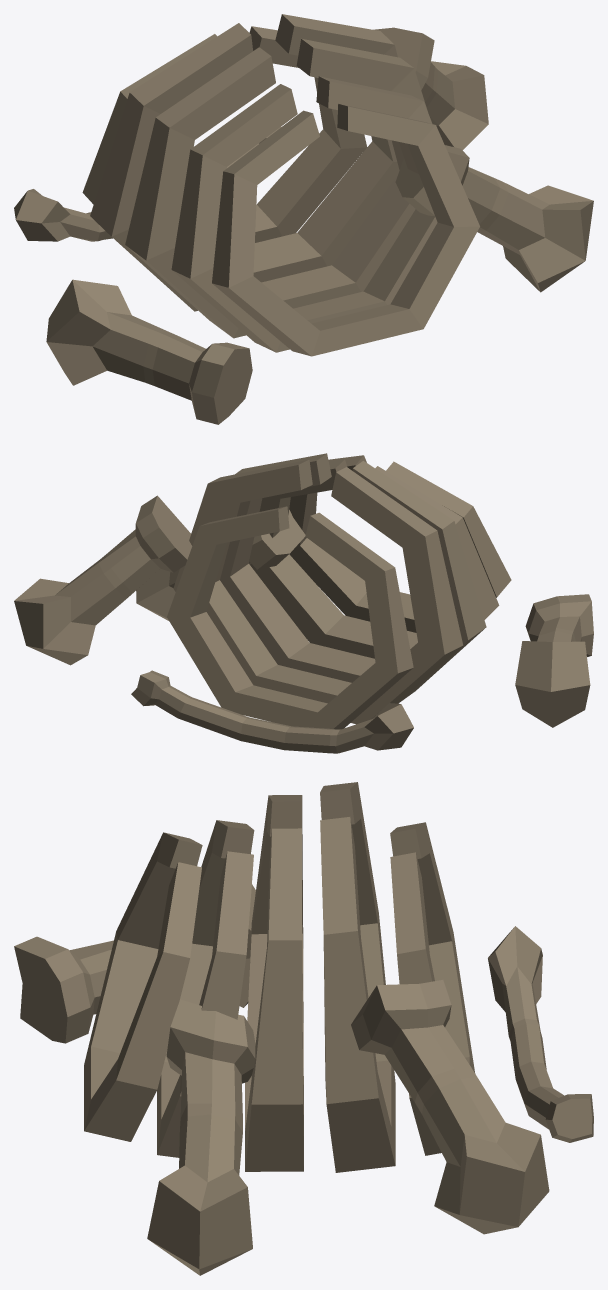
The model's file is dn_bones.glb.
The picture shows the model from 3 angles, top to bottom: view 1: azimuth 30°, elevation 25°; view 2: azimuth 150°, elevation 25°; view 3: azimuth 270°, elevation 25°; orthographic projection. The views are drawn at different scales.
Visible parts, largest first — view 1: dn_bones2; view 2: dn_bones2; view 3: dn_bones2.
Boxes of the visible parts, bbox=[...] form: dn_bones2: bbox=[14, 14, 593, 424]; dn_bones2: bbox=[14, 453, 593, 753]; dn_bones2: bbox=[14, 782, 593, 1275].
Bounding box in the file's own units: 0.9017 × 0.45 × 0.6866.
